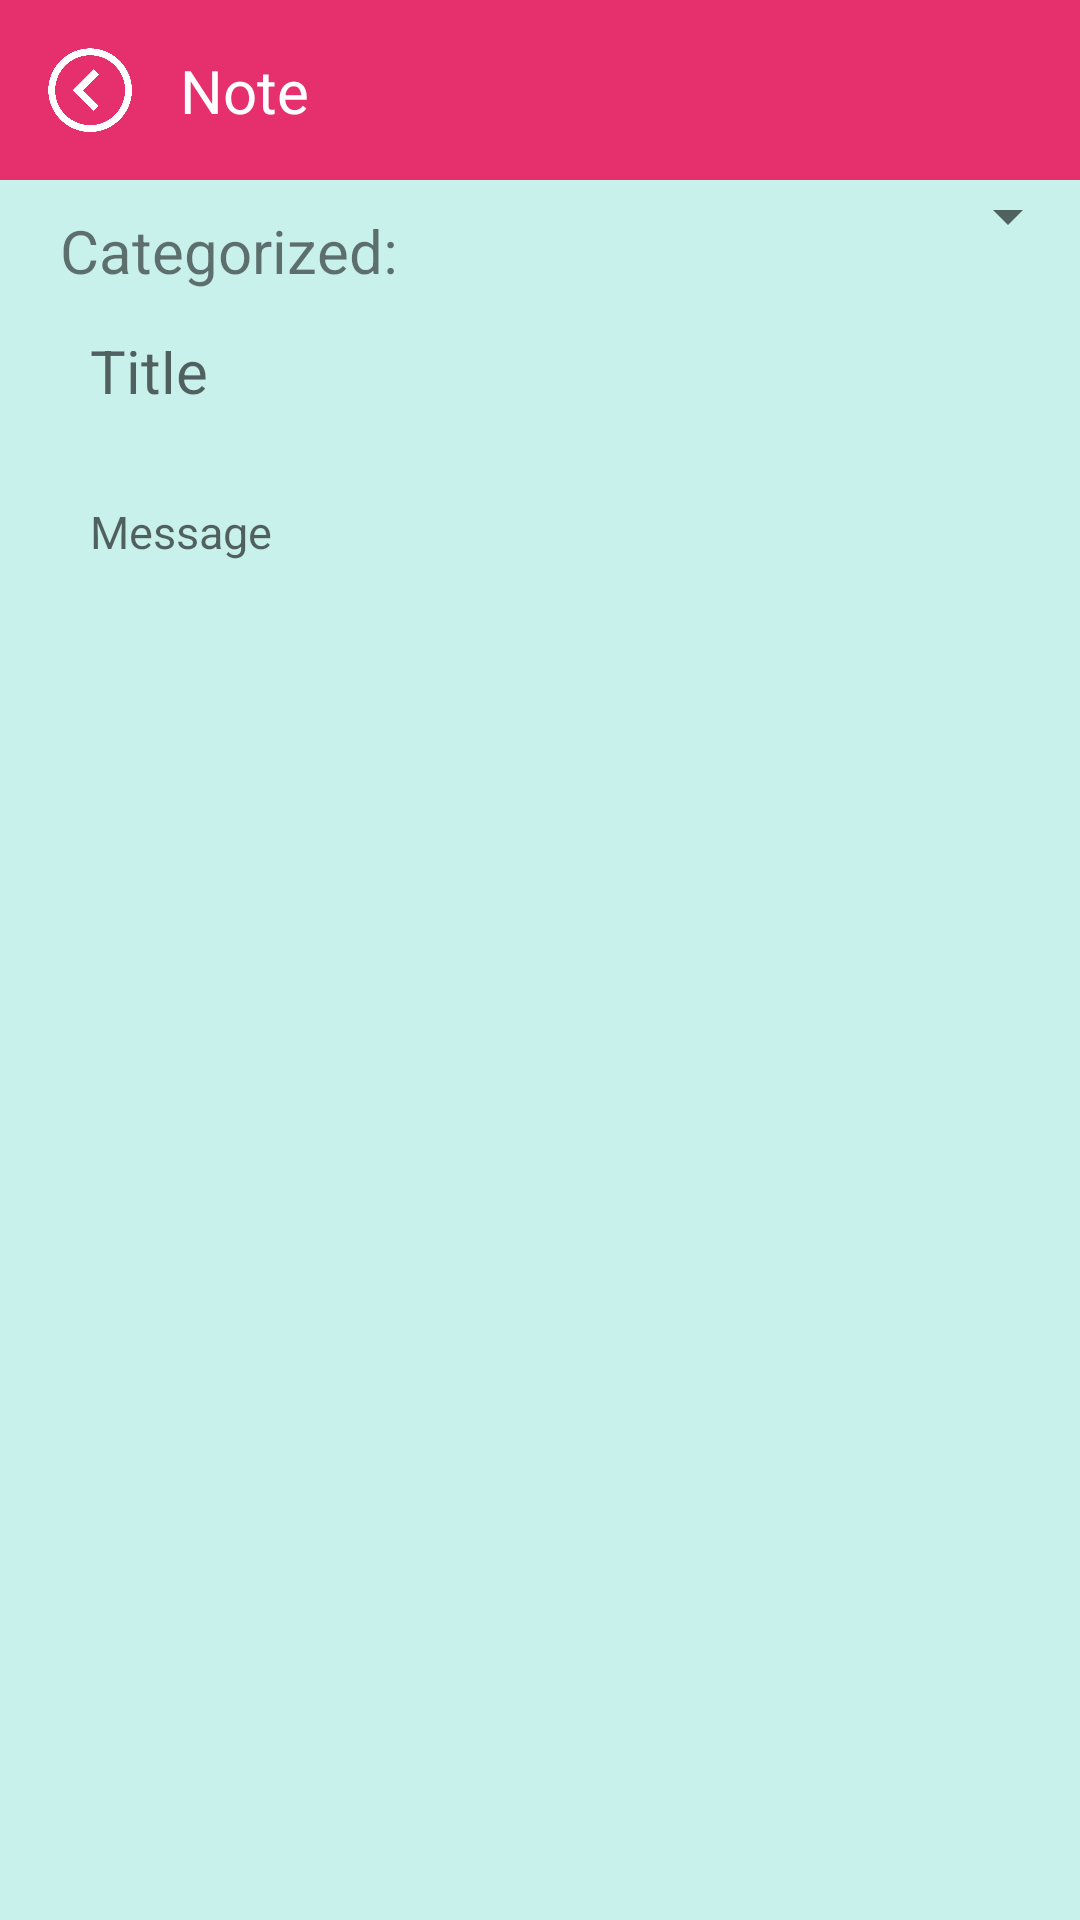

Icons on this 1080 × 1920 Android screen, each with the point to tap as (x=x, y=y):
back: (x=90, y=90)
